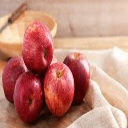apple: (12, 72, 44, 124)
